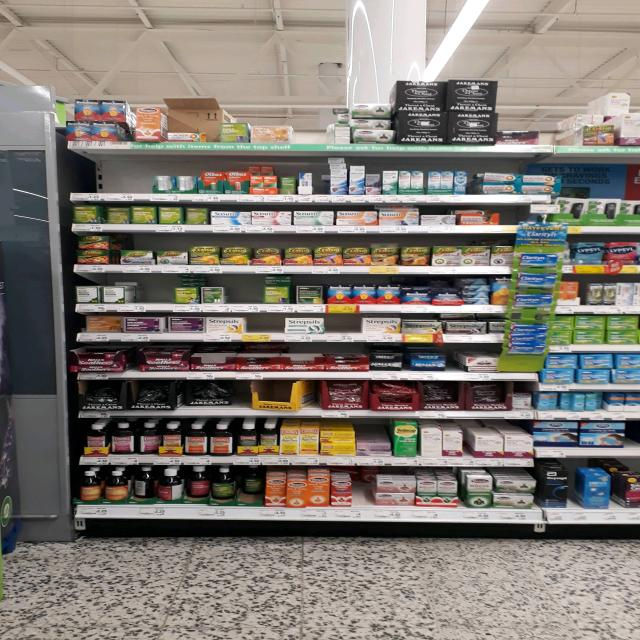empty: (230, 371, 330, 408), (73, 153, 153, 192), (121, 276, 183, 306), (286, 106, 334, 143), (220, 274, 267, 301), (244, 318, 288, 336), (327, 314, 357, 335)
